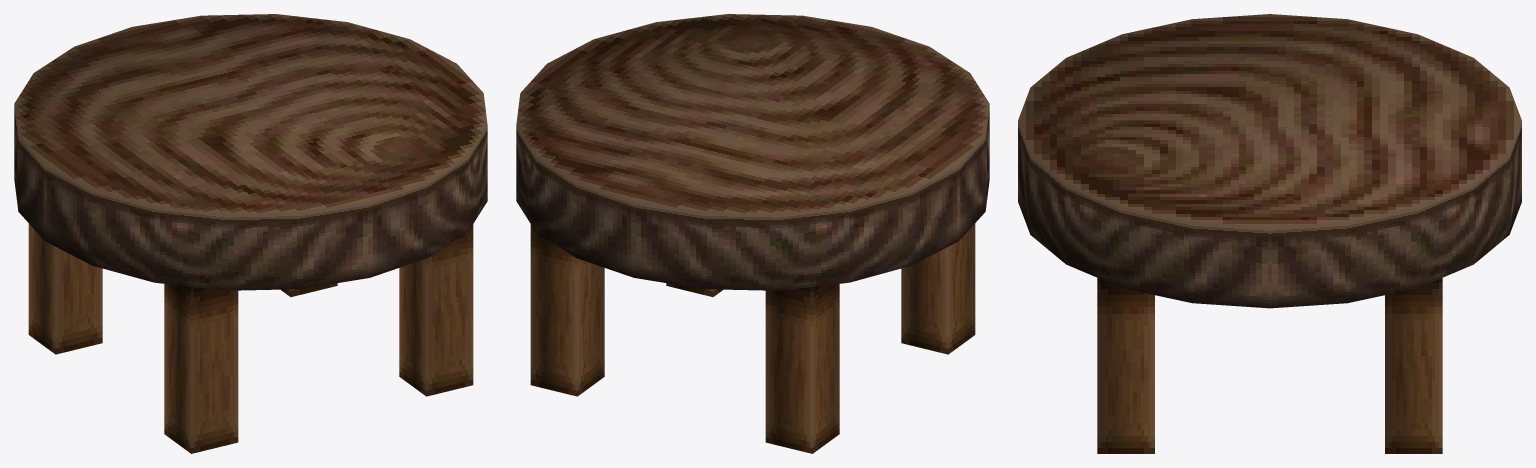
The model's file is int_jpn_tableS.dae.
3 renders of one model, left to right at view 1: azimuth 30°, elevation 25°; view 2: azimuth 150°, elevation 25°; view 3: azimuth 270°, elevation 25°, orthographic. The views are drawn at different scales.
Parts seen in each view (by area): view 1: int_jpn_tableS; view 2: int_jpn_tableS; view 3: int_jpn_tableS.
Boxes of the visible parts, box(x1,y1,x2,y2) form: int_jpn_tableS: box(14, 14, 487, 453); int_jpn_tableS: box(516, 14, 989, 453); int_jpn_tableS: box(1018, 14, 1521, 453).
Size of the model in its own units: 28.04 by 16 by 28.04.
Materials: 3 (3 with a texture image).
